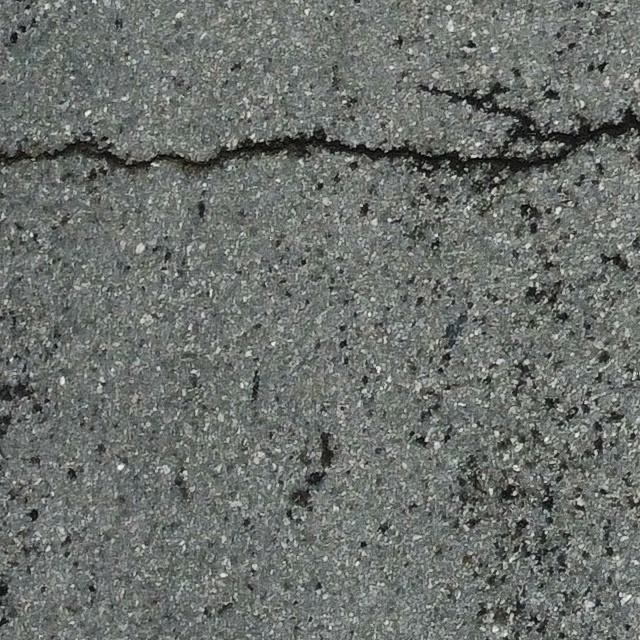TransverseCrack: (1, 84, 640, 190)
